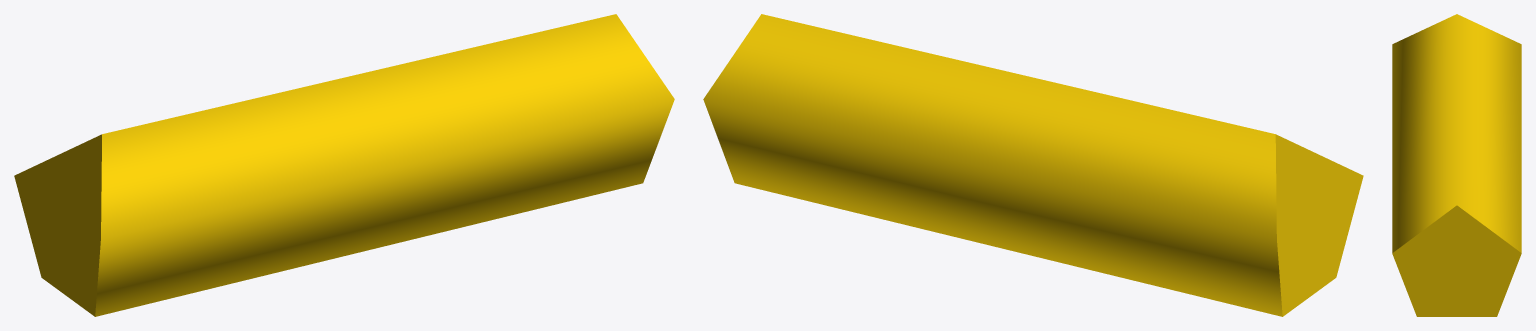
File: Crayon_E.FBX
3 views of the same model, side by side, from view 1: azimuth 30°, elevation 25°; view 2: azimuth 150°, elevation 25°; view 3: azimuth 270°, elevation 25° (orthographic). The views are drawn at different scales.
Parts seen in each view (by area): view 1: Crayon_And_Chalk; view 2: Crayon_And_Chalk; view 3: Crayon_And_Chalk.
Part boxes in pixels (x1,y1,x2,y2): Crayon_And_Chalk: (14,14,674,316); Crayon_And_Chalk: (703,14,1363,316); Crayon_And_Chalk: (1392,14,1521,316).
Size of the model in its own units: 29.04 by 7.49 by 7.61.
